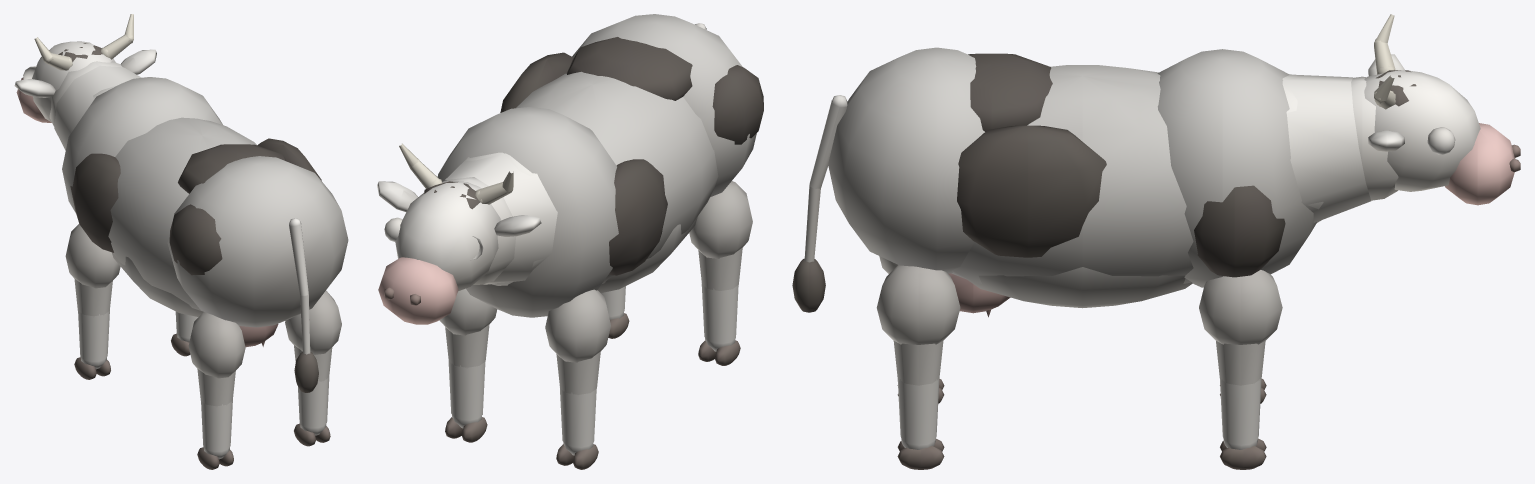
Rendered from cow.glb.
3 views of the same model, side by side, from view 1: azimuth 30°, elevation 25°; view 2: azimuth 150°, elevation 25°; view 3: azimuth 270°, elevation 25° (orthographic). The views are drawn at different scales.
Parts seen in each view (by area): view 1: body, head, leg_3, leg_1, leg_2, tail, lower_3, lower_1, lower_2, lower_0; view 2: body, head, leg_1, leg_3, leg_0, lower_1, lower_3, lower_0, lower_2; view 3: body, head, leg_2, leg_0, tail, lower_2, lower_0.
Part boxes in pixels (x1,y1,x2,y2): body: (62,77,348,347); head: (14,14,156,150); leg_3: (188,312,245,407); leg_1: (65,224,120,317); leg_2: (285,290,341,382); tail: (289,218,318,392); lower_3: (197,400,233,469); lower_1: (74,310,110,379); lower_2: (294,377,330,446); lower_0: (171,311,198,356); body: (437,14,763,317); head: (377,143,557,324); leg_1: (545,289,610,395); leg_3: (689,181,752,292); leg_0: (439,288,497,368); lower_1: (556,389,598,469); lower_3: (698,284,740,365); lower_0: (445,361,487,442); lower_2: (601,286,629,338); body: (828,47,1316,317); head: (1282,14,1520,222); leg_2: (876,265,960,385); leg_0: (1199,270,1282,385); tail: (792,95,847,312); lower_2: (897,379,944,469); lower_0: (1220,379,1266,469).
Size of the model in its own units: 0.8622 by 1.41 by 2.4.
